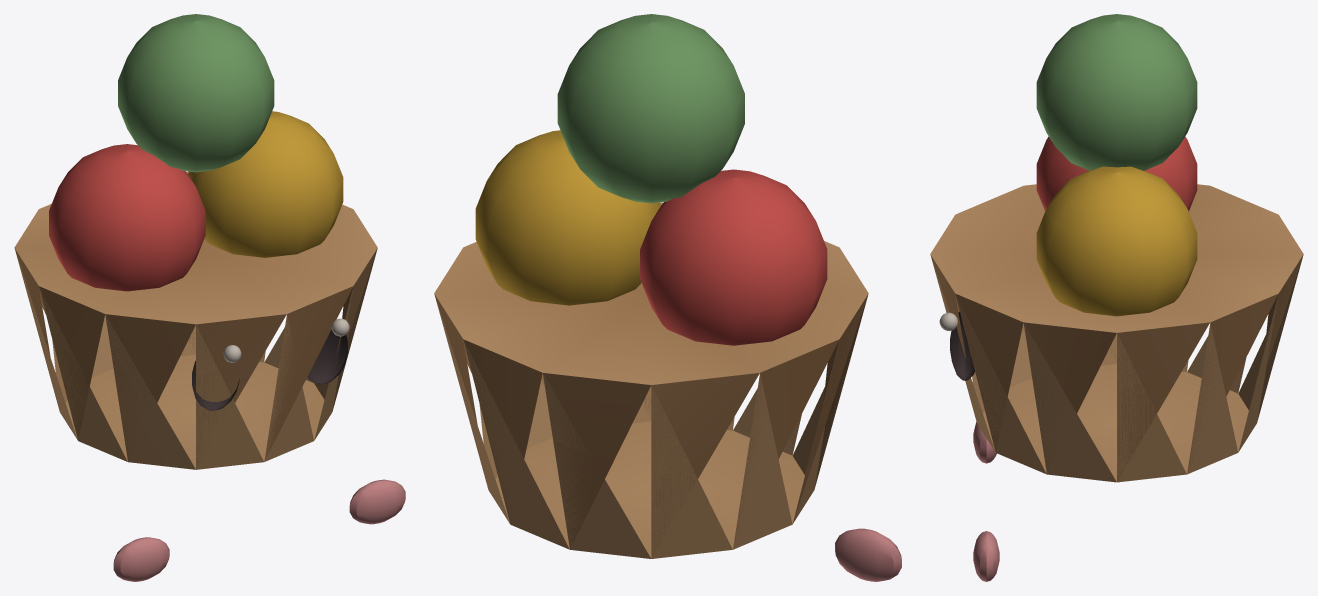
Rendered from pacff6478.glb.
3 views of the same model, side by side, from view 1: azimuth 30°, elevation 25°; view 2: azimuth 150°, elevation 25°; view 3: azimuth 270°, elevation 25° (orthographic). The views are drawn at different scales.
Visible parts, largest first — view 1: pet_pacff6478; view 2: pet_pacff6478; view 3: pet_pacff6478.
Boxes of the visible parts, <box> form: pet_pacff6478: <box>14,14,405,581</box>; pet_pacff6478: <box>434,14,901,581</box>; pet_pacff6478: <box>930,14,1303,581</box>.
Size of the model in its own units: 0.32 by 0.4702 by 0.32.
